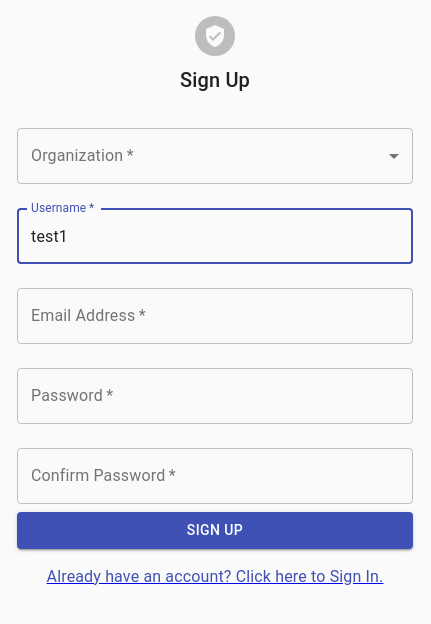
it: Login Process › check username invalid
Replace the text in the field with id "username" with "test" at (215, 236), box [17,208,413,264]
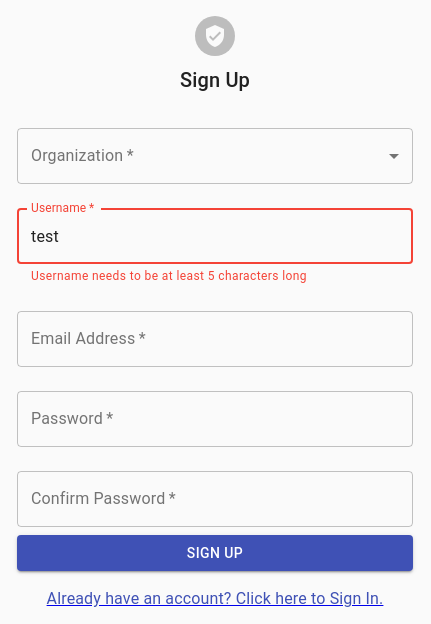
Now the text "Username needs to be at least 5 characters long" is shown, box [31,269,307,283]
